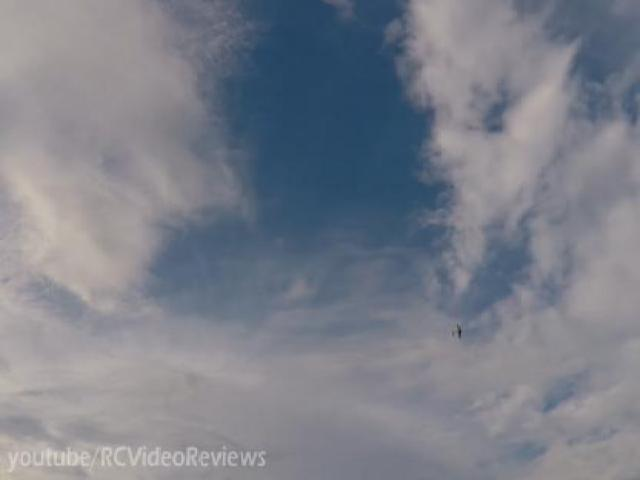uav: (448, 318, 467, 342)
